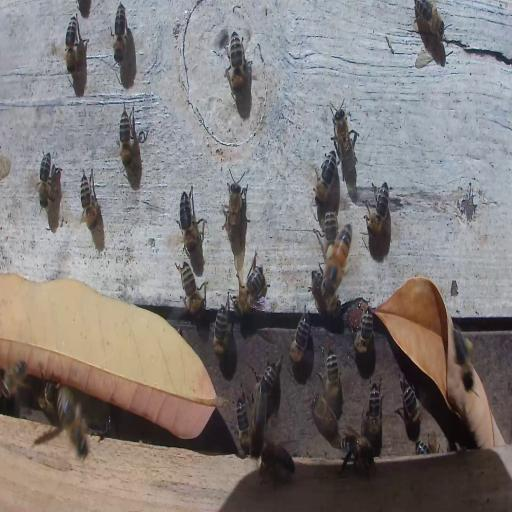bee: (57, 385, 92, 464), (322, 222, 354, 294), (331, 107, 357, 178), (258, 437, 296, 484), (232, 265, 265, 318), (451, 323, 475, 394), (339, 430, 375, 477), (311, 269, 341, 322), (179, 187, 202, 256), (250, 358, 282, 406), (289, 304, 312, 370), (182, 263, 206, 324), (249, 385, 268, 462), (225, 181, 246, 249), (79, 166, 100, 234), (398, 377, 421, 439), (312, 150, 337, 205), (367, 180, 391, 233), (414, 0, 445, 40), (352, 305, 376, 354), (311, 393, 337, 438), (324, 344, 342, 408), (228, 30, 245, 96), (118, 106, 135, 171), (365, 380, 382, 444), (64, 13, 82, 73), (3, 359, 27, 400), (213, 304, 230, 360), (112, 2, 127, 63), (38, 150, 53, 208), (237, 396, 251, 458), (38, 379, 58, 422), (323, 210, 338, 249), (414, 436, 440, 456)
